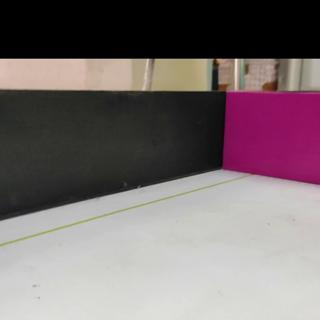xparking: (227, 89, 320, 177)
